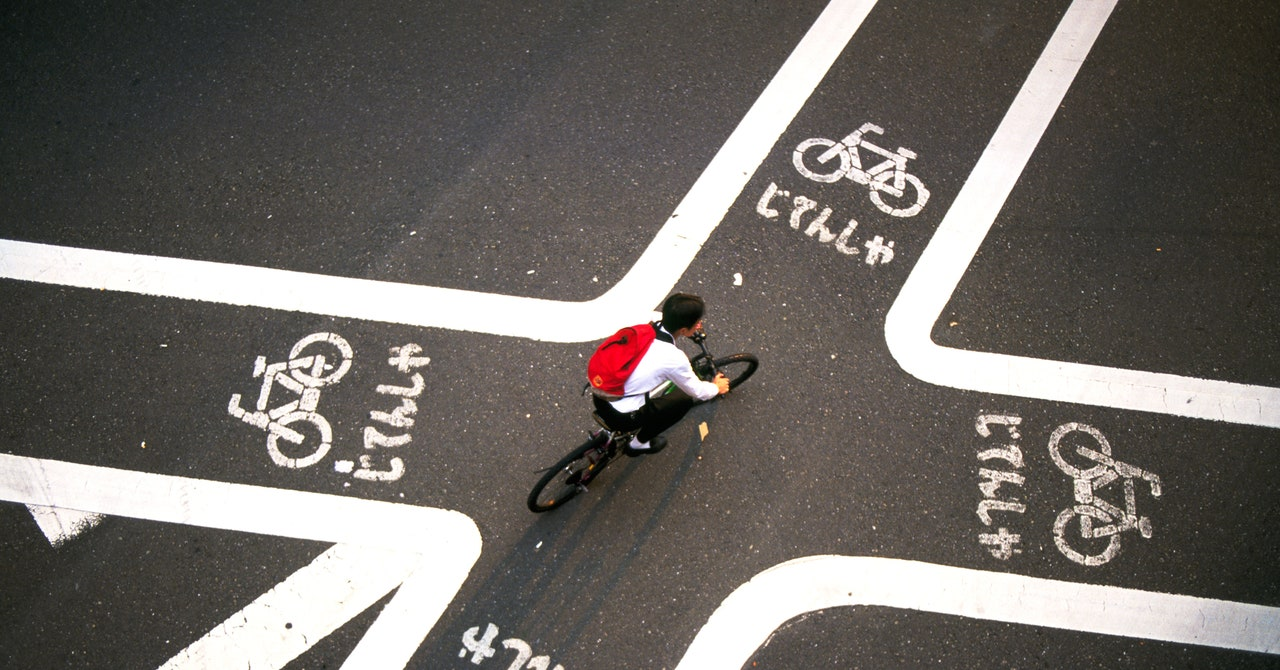commuter: (521, 292, 769, 526)
